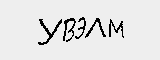В: (61, 16, 76, 46)
Л: (86, 16, 106, 39)
М: (105, 20, 127, 39)
У: (36, 19, 61, 47)
Э: (73, 16, 86, 40)
